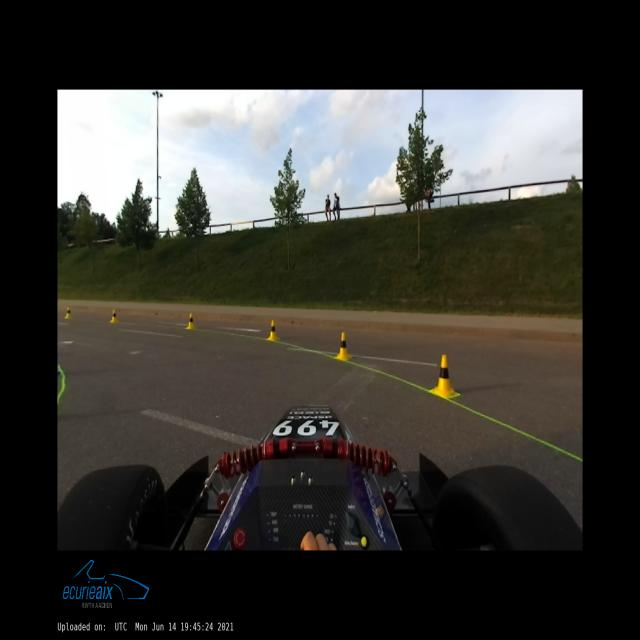yellow_cone: (433, 356, 455, 398), (336, 332, 352, 360), (268, 321, 278, 341), (187, 314, 195, 329), (111, 309, 117, 322), (66, 306, 72, 318)
